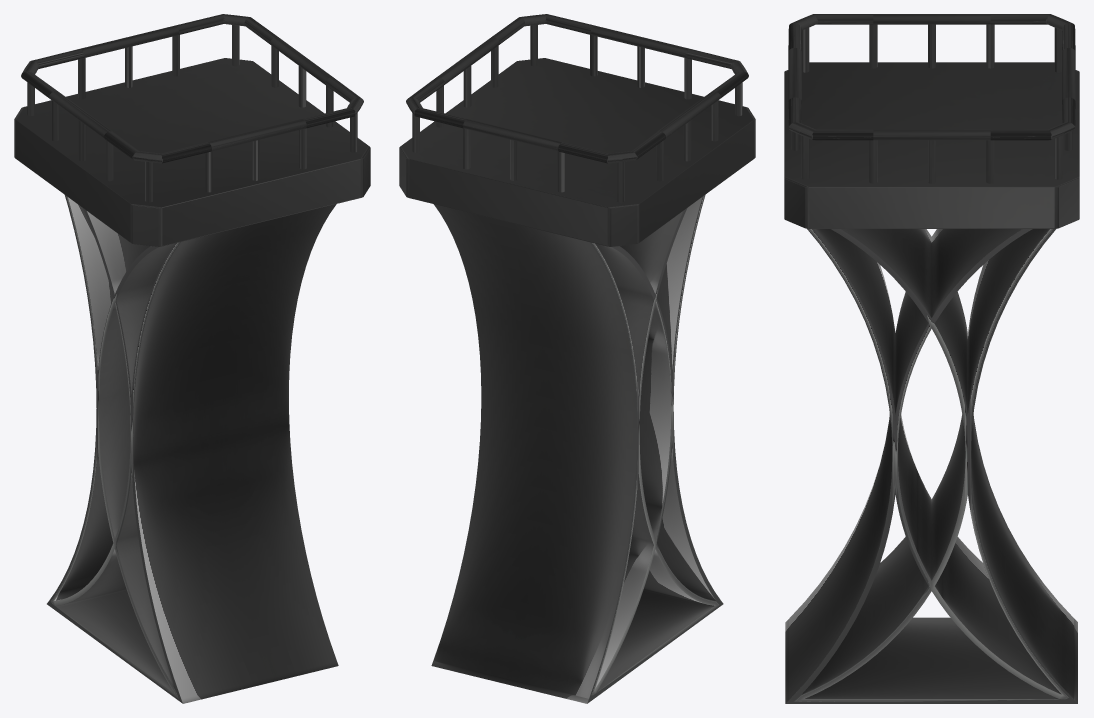
File: tower02.glb
3 renders of one model, left to right at view 1: azimuth 30°, elevation 25°; view 2: azimuth 150°, elevation 25°; view 3: azimuth 270°, elevation 25°, orthographic. The views are drawn at different scales.
Visible parts, largest first — view 1: Cube.001; view 2: Cube.001; view 3: Cube.001.
Part boxes in pixels (left/top/right/bottom): Cube.001: left=14, top=14, right=370, bottom=703; Cube.001: left=399, top=14, right=755, bottom=703; Cube.001: left=784, top=14, right=1079, bottom=703.
Size of the model in its own units: 1.29 by 2.84 by 1.29.
1 material, 1 textured.
